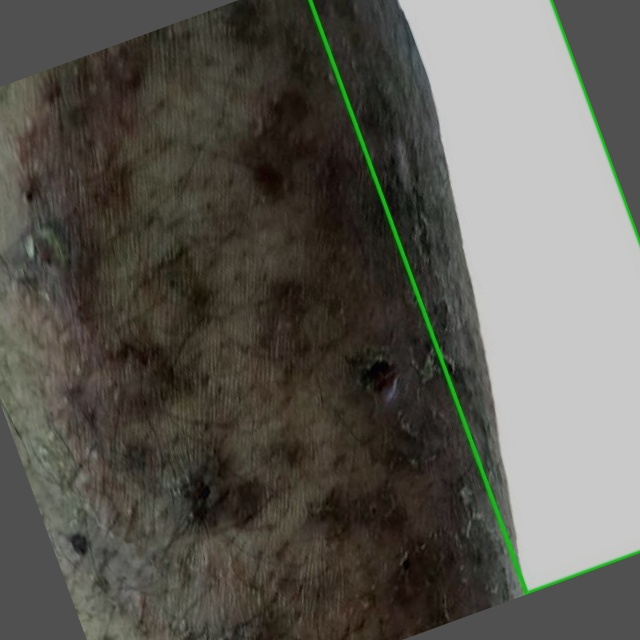Tinea Corporis: (310, 0, 639, 593)
